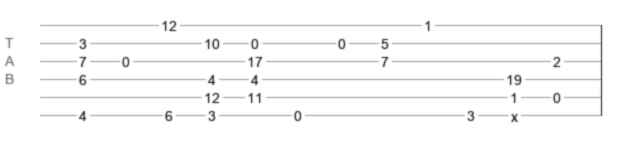0: (122, 54, 130, 64), (251, 36, 259, 46), (294, 108, 302, 118), (338, 36, 346, 46), (553, 90, 561, 100)
1: (424, 18, 432, 28), (510, 90, 518, 100)
10: (204, 36, 220, 46)
11: (247, 90, 263, 100)
12: (161, 18, 177, 28), (204, 90, 220, 100)
17: (247, 54, 263, 64)
19: (506, 72, 522, 82)
2: (553, 54, 561, 64)
3: (79, 36, 87, 46), (208, 108, 216, 118), (467, 108, 475, 118)
4: (79, 108, 87, 118), (208, 72, 216, 82), (251, 72, 259, 82)
5: (381, 36, 389, 46)
6: (79, 72, 87, 82), (165, 108, 173, 118)
7: (79, 54, 87, 64), (381, 54, 389, 64)
x: (511, 109, 518, 117)
